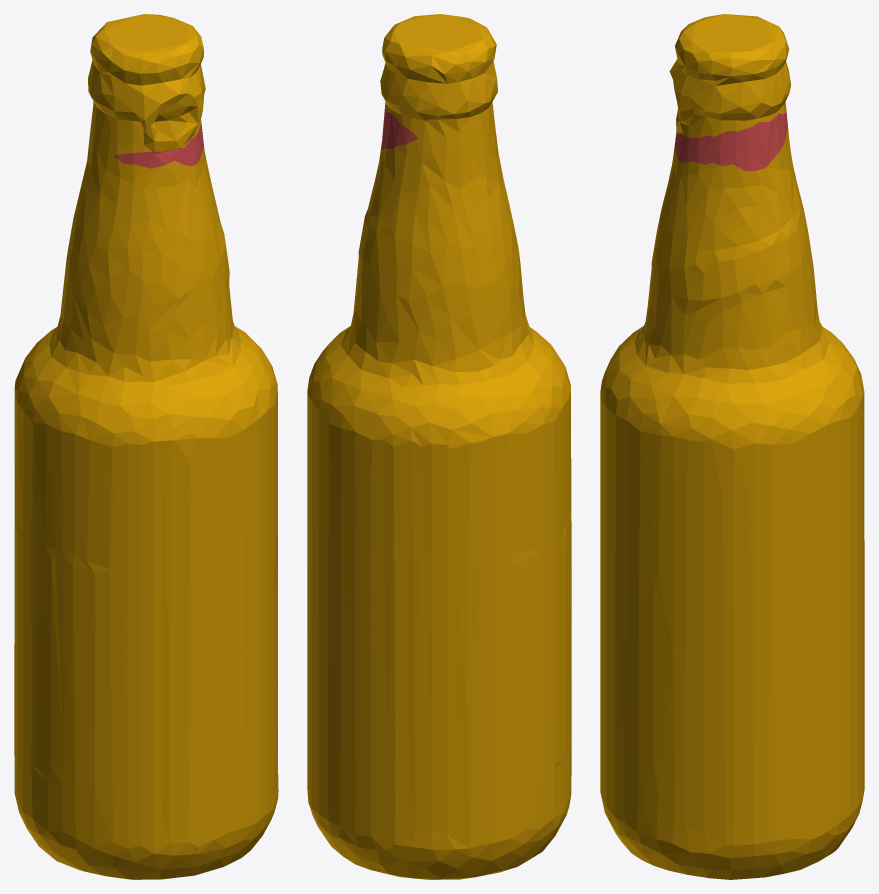
The model's file is fractured_70_2pcs.glb.
The picture shows the model from 3 angles, left to right: view 1: azimuth 30°, elevation 25°; view 2: azimuth 150°, elevation 25°; view 3: azimuth 270°, elevation 25°; orthographic projection.
Visible parts, largest first — view 1: piece_0.obj, piece_1.obj; view 2: piece_0.obj, piece_1.obj; view 3: piece_0.obj, piece_1.obj.
Part boxes in pixels (box(x1,y1,x2,y2)): piece_0.obj: box(14, 14, 278, 879); piece_1.obj: box(114, 120, 203, 168); piece_0.obj: box(307, 14, 571, 879); piece_1.obj: box(381, 103, 496, 149); piece_0.obj: box(600, 14, 864, 879); piece_1.obj: box(674, 112, 787, 171).
Size of the model in its own units: 0.2984 by 1 by 0.2976.
